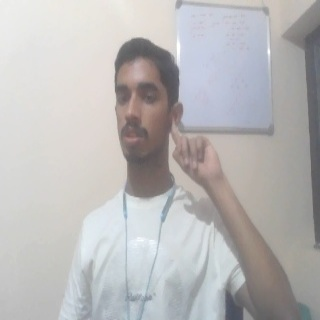Deaf: (170, 115, 227, 189)
Face: (109, 31, 184, 170)
